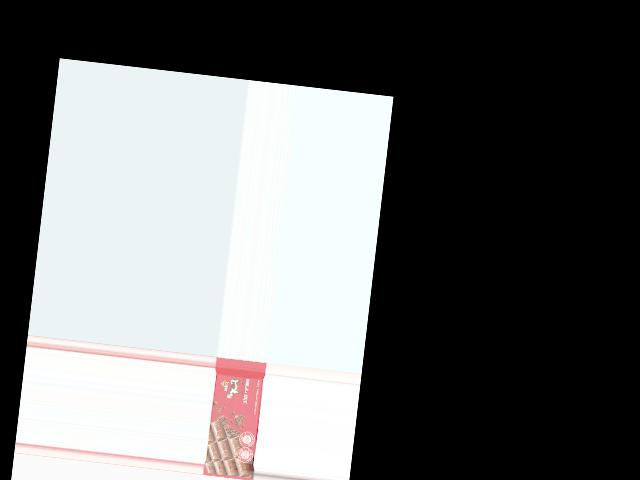chocolate: (203, 358, 267, 480)
